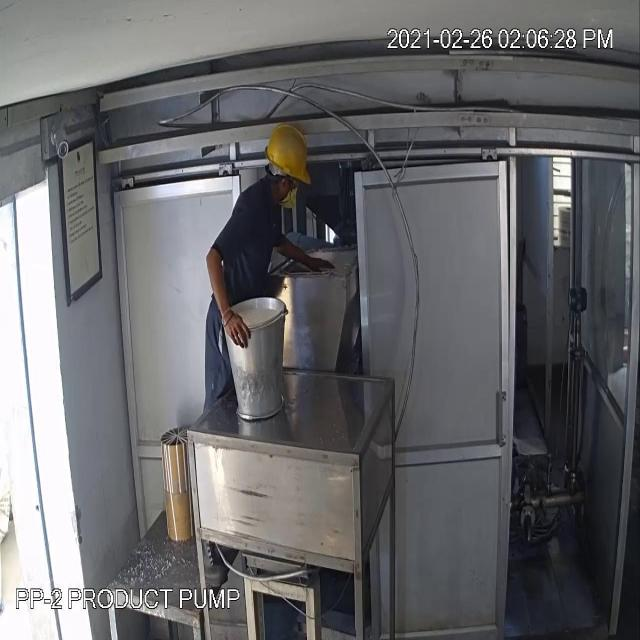helmet: (264, 122, 312, 188)
